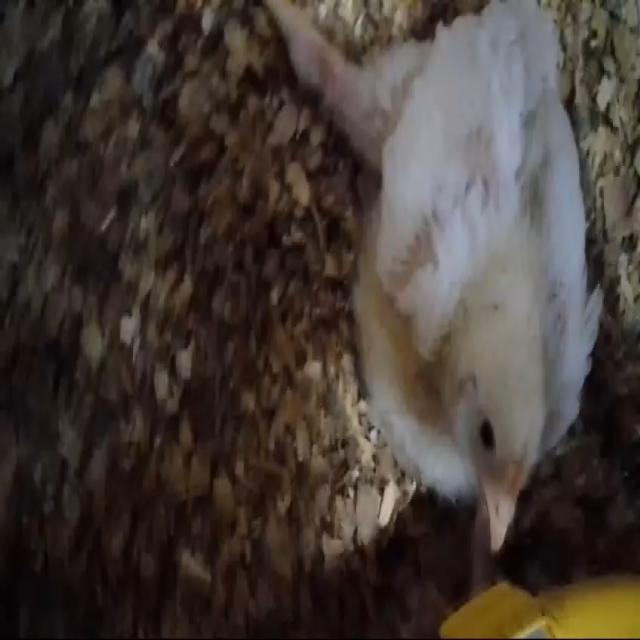abnormal chicken: (235, 0, 640, 557)
